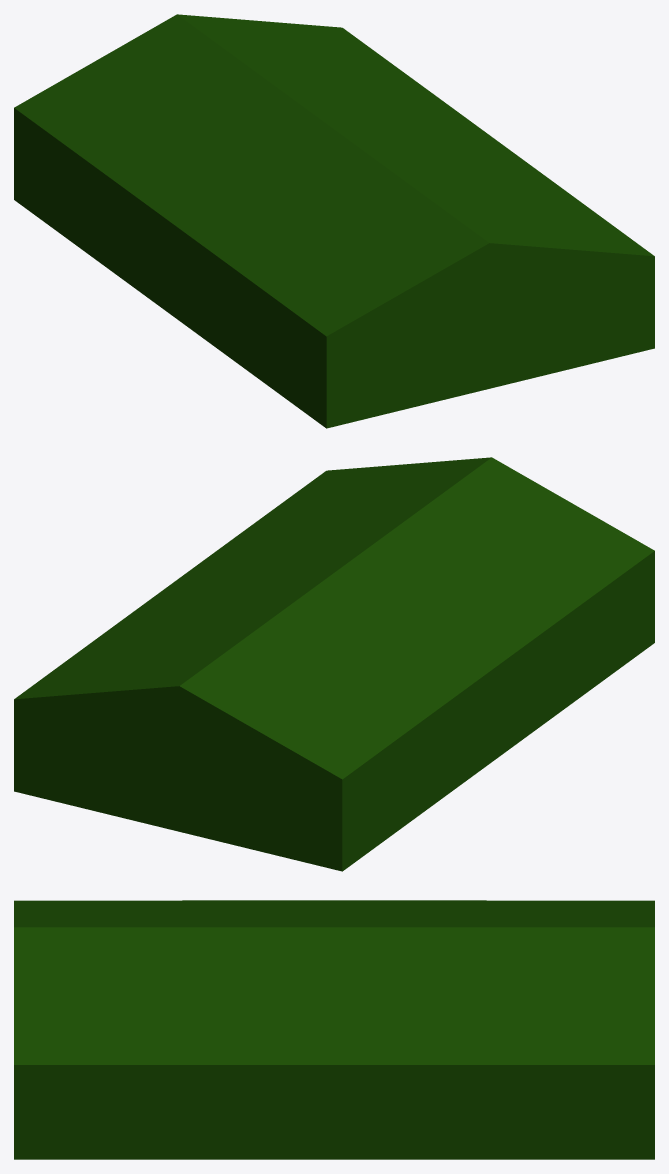
Rendered from Tents01A.fbx.
3 views of the same model, one above another, from view 1: azimuth 30°, elevation 25°; view 2: azimuth 150°, elevation 25°; view 3: azimuth 270°, elevation 25° (orthographic). The views are drawn at different scales.
Visible parts, largest first — view 1: Tents01A; view 2: Tents01A; view 3: Tents01A.
Boxes of the visible parts, bbox=[...] form: Tents01A: bbox=[14, 14, 654, 428]; Tents01A: bbox=[14, 457, 654, 871]; Tents01A: bbox=[14, 900, 654, 1159].
Size of the model in its own units: 4.56 by 1.93 by 7.51.
